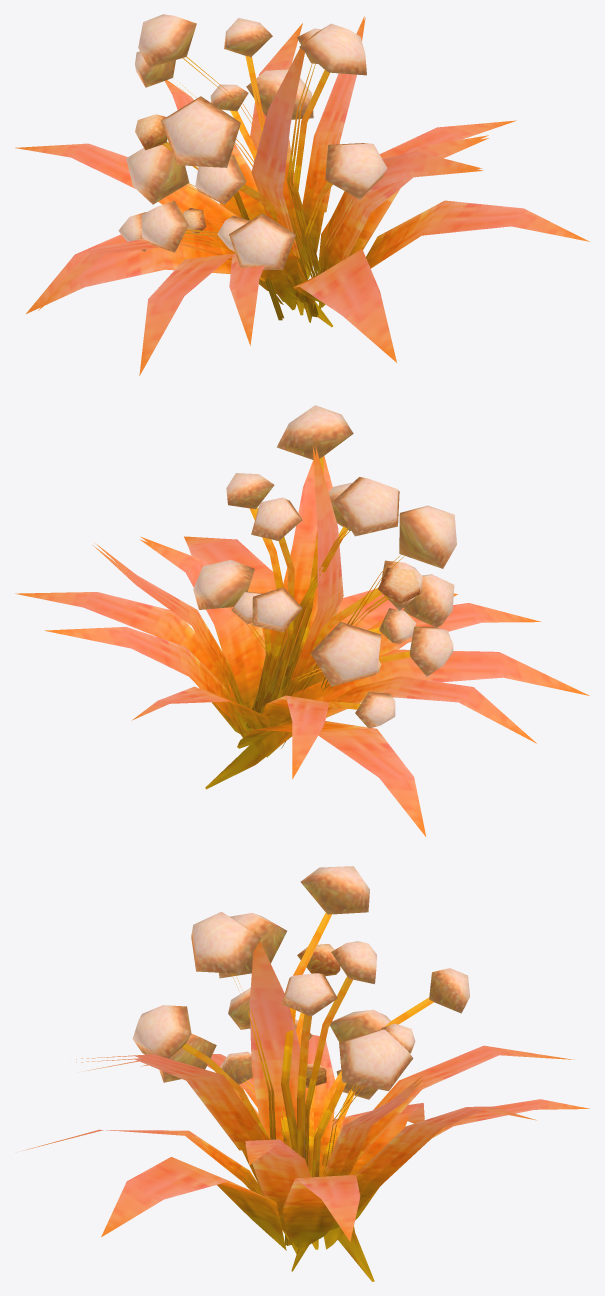
The model's file is lowpoly_ice_plant.glb.
3 renders of one model, top to bottom at view 1: azimuth 30°, elevation 25°; view 2: azimuth 150°, elevation 25°; view 3: azimuth 270°, elevation 25°, orthographic. The views are drawn at different scales.
Visible parts, largest first — view 1: MC_M_10007; view 2: MC_M_10007; view 3: MC_M_10007.
Part boxes in pixels (bbox=[...]): MC_M_10007: bbox=[15, 14, 589, 375]; MC_M_10007: bbox=[15, 405, 589, 836]; MC_M_10007: bbox=[22, 866, 589, 1281].
Size of the model in its own units: 1.29 by 0.8239 by 1.25.
Materials: 1 (1 with a texture image).
